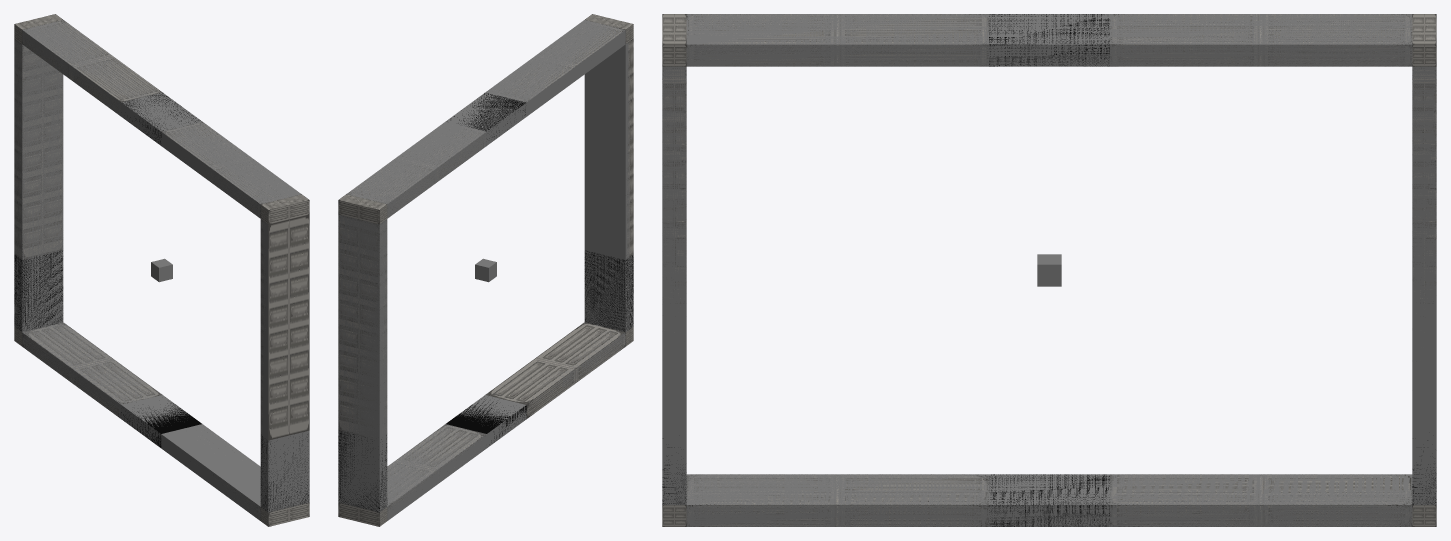
Rendered from TestRoom2.fbx.
3 renders of one model, left to right at view 1: azimuth 30°, elevation 25°; view 2: azimuth 150°, elevation 25°; view 3: azimuth 270°, elevation 25°, orthographic. The views are drawn at different scales.
Visible parts, largest first — view 1: RightWall, TopWall, BottomWall, HalfLeftWallT, HalfRightWallT, LeftWall, BottomHalfWallR, TopHalfWallL, DoorR, TopHalfWallR, DoorB, CornerTR (+5 smaller); view 2: RightWall, TopWall, LeftWall, BottomWall, BottomHalfWallL, HalfRightWallT, DoorL, BottomHalfWallR, TopHalfWallL, HalfLeftWallT, DoorB, TopHalfWallR (+6 smaller); view 3: TopWall, BottomWall, RightWall, LeftWall, BottomHalfWallR, TopHalfWallR, BottomHalfWallL, TopHalfWallL, DoorB, DoorT, HalfLeftWallT, HalfRightWallT (+2 smaller).
Boxes of the visible parts, box(x1,y1,x2,y2) form: RightWall: box(14, 39, 63, 332); TopWall: box(22, 20, 301, 217); BottomWall: box(22, 322, 260, 520); HalfLeftWallT: box(260, 214, 309, 440); HalfRightWallT: box(14, 39, 63, 259); LeftWall: box(260, 219, 309, 512); BottomHalfWallR: box(22, 322, 162, 418); TopHalfWallL: box(22, 20, 162, 115); DoorR: box(14, 250, 63, 330); TopHalfWallR: box(162, 121, 287, 218); DoorB: box(121, 397, 201, 447); CornerTR: box(260, 194, 309, 224); RightWall: box(338, 214, 387, 512); TopWall: box(346, 20, 625, 218); LeftWall: box(584, 42, 633, 331); BottomWall: box(387, 323, 625, 520); BottomHalfWallL: box(485, 322, 625, 418); HalfRightWallT: box(338, 216, 387, 436); DoorL: box(584, 250, 633, 331); BottomHalfWallR: box(387, 424, 486, 512); TopHalfWallL: box(348, 127, 486, 215); HalfLeftWallT: box(626, 39, 633, 258); DoorB: box(446, 396, 526, 444); TopHalfWallR: box(493, 23, 624, 101); TopWall: box(686, 14, 1412, 66); BottomWall: box(686, 474, 1412, 526); RightWall: box(1412, 66, 1436, 504); LeftWall: box(662, 66, 686, 504); BottomHalfWallR: box(1110, 474, 1412, 526); TopHalfWallR: box(686, 14, 988, 66); BottomHalfWallL: box(686, 474, 988, 526); TopHalfWallL: box(1110, 14, 1412, 66); DoorB: box(989, 474, 1109, 526); DoorT: box(989, 14, 1109, 66); HalfLeftWallT: box(662, 68, 686, 360); HalfRightWallT: box(1412, 68, 1436, 330).
Size of the model in its own units: 300 by 2200 by 3200.
4 materials, 2 textured.
